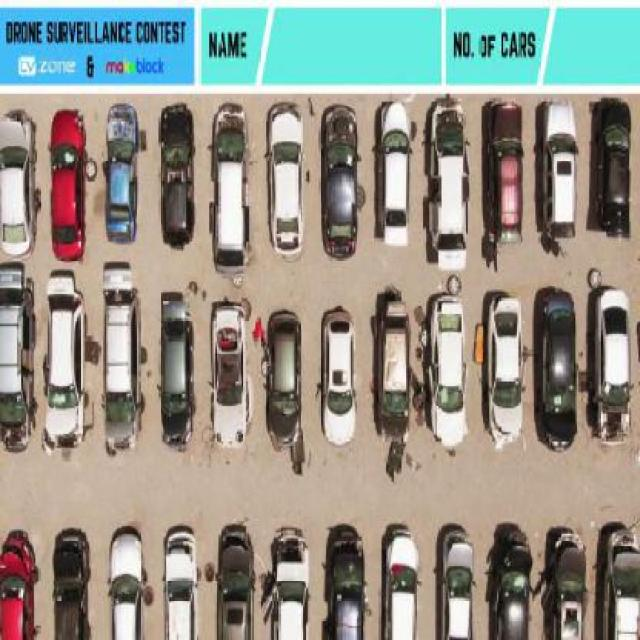car: (207, 103, 253, 274), (41, 273, 86, 447), (534, 284, 580, 451), (424, 100, 470, 266), (263, 103, 308, 261), (592, 281, 636, 440), (320, 103, 364, 262), (104, 282, 145, 449), (158, 285, 200, 447), (479, 96, 527, 237), (208, 297, 249, 453), (158, 100, 201, 248), (429, 291, 468, 451), (591, 94, 635, 235), (486, 292, 524, 452), (48, 109, 88, 260), (0, 270, 33, 449), (541, 98, 581, 238), (372, 292, 408, 445), (0, 112, 37, 260), (264, 306, 302, 450), (104, 99, 142, 240), (320, 306, 357, 447), (374, 96, 410, 240), (49, 526, 92, 640), (213, 521, 254, 640), (326, 526, 368, 639), (546, 531, 589, 640), (268, 526, 309, 640), (108, 524, 146, 640), (434, 524, 472, 639), (0, 526, 38, 640), (603, 523, 640, 640), (488, 532, 528, 639), (165, 523, 200, 640), (384, 527, 419, 640)
